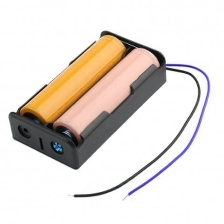battery: (49, 45, 162, 149), (18, 32, 128, 134)
